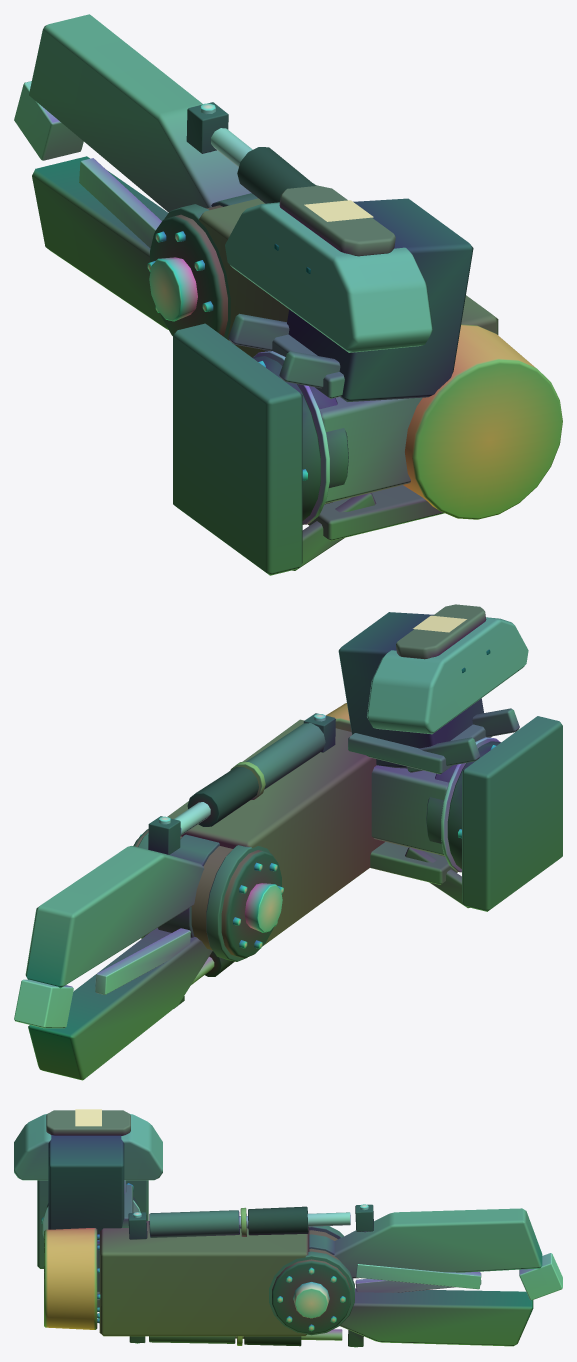
File: arm_hc40.glb
3 views of the same model, one above another, from view 1: azimuth 30°, elevation 25°; view 2: azimuth 150°, elevation 25°; view 3: azimuth 270°, elevation 25° (orthographic). The views are drawn at different scales.
Parts seen in each view (by area): view 1: Body__armor, Body__gunmetal, Body__dark, Body__brass, Body__armor_sub, Body__chrome, Body__armor_oxide, Body__rubber, Body__decal; view 2: Body__armor, Body__gunmetal, Body__armor_oxide, Body__armor_sub, Body__dark, Body__chrome, Body__rubber, Body__brass, Body__decal; view 3: Body__armor_oxide, Body__armor, Body__dark, Body__armor_sub, Body__chrome, Body__gunmetal, Body__brass, Body__rubber, Body__decal.
Boxes of the visible parts, left/top/right/bottom form: Body__armor: left=29, top=14, right=432, bottom=503; Body__gunmetal: left=164, top=183, right=348, bottom=575; Body__dark: left=150, top=102, right=473, bottom=520; Body__brass: left=403, top=324, right=562, bottom=519; Body__armor_sub: left=32, top=156, right=444, bottom=570; Body__chrome: left=14, top=81, right=329, bottom=524; Body__armor_oxide: left=199, top=185, right=498, bottom=357; Body__rubber: left=237, top=147, right=315, bottom=203; Body__decal: left=304, top=200, right=373, bottom=221; Body__armor: left=25, top=617, right=528, bottom=988; Body__gunmetal: left=138, top=716, right=562, bottom=961; Body__armor_oxide: left=167, top=604, right=486, bottom=946; Body__armor_sub: left=28, top=708, right=519, bottom=1080; Body__dark: left=133, top=612, right=500, bottom=1008; Body__chrome: left=14, top=713, right=499, bottom=1028; Body__rubber: left=187, top=767, right=258, bottom=976; Body__brass: left=230, top=703, right=351, bottom=800; Body__decal: left=413, top=615, right=466, bottom=632; Body__armor_oxide: left=46, top=1110, right=309, bottom=1336; Body__armor: left=14, top=1114, right=542, bottom=1278; Body__dark: left=47, top=1135, right=373, bottom=1346; Body__armor_sub: left=97, top=1180, right=533, bottom=1346; Body__chrome: left=41, top=1183, right=562, bottom=1347; Body__gunmetal: left=37, top=1180, right=354, bottom=1343; Body__brass: left=44, top=1207, right=246, bottom=1345; Body__rubber: left=244, top=1206, right=308, bottom=1346; Body__decal: left=75, top=1109, right=101, bottom=1126.
Size of the model in its own units: 0.9344 by 0.9854 by 2.46.
